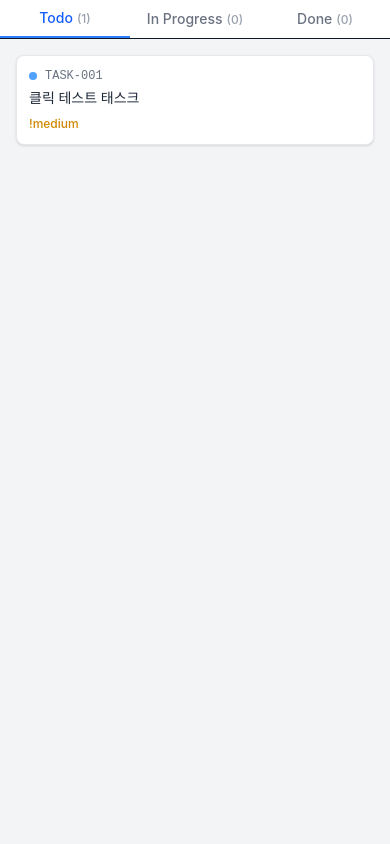
KanbanBoard › 카드 클릭 시 슬라이드 패널이 열린다
The width and height of the screenshot is (390, 844).
Click the text "클릭 테스트 태스크": (84, 98) [29,89,140,106]
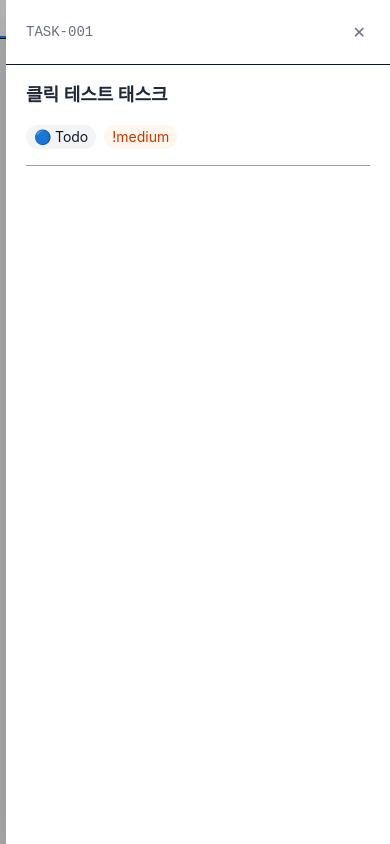
Check: the dialog is shown
